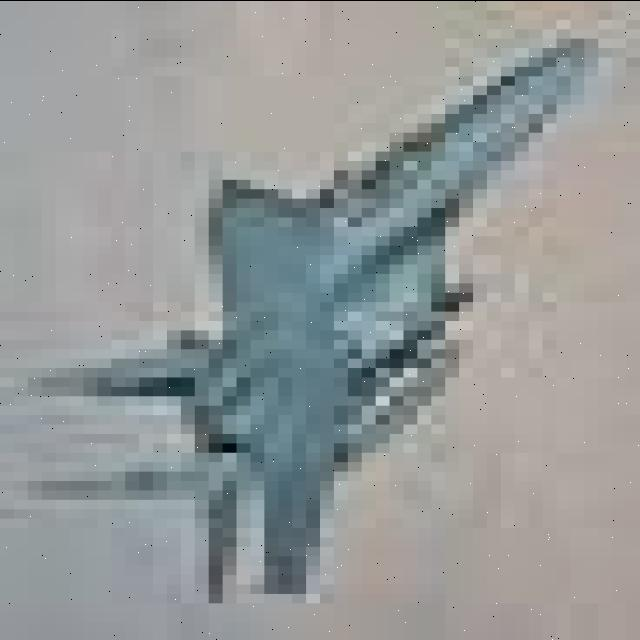F15: (19, 24, 596, 634)
